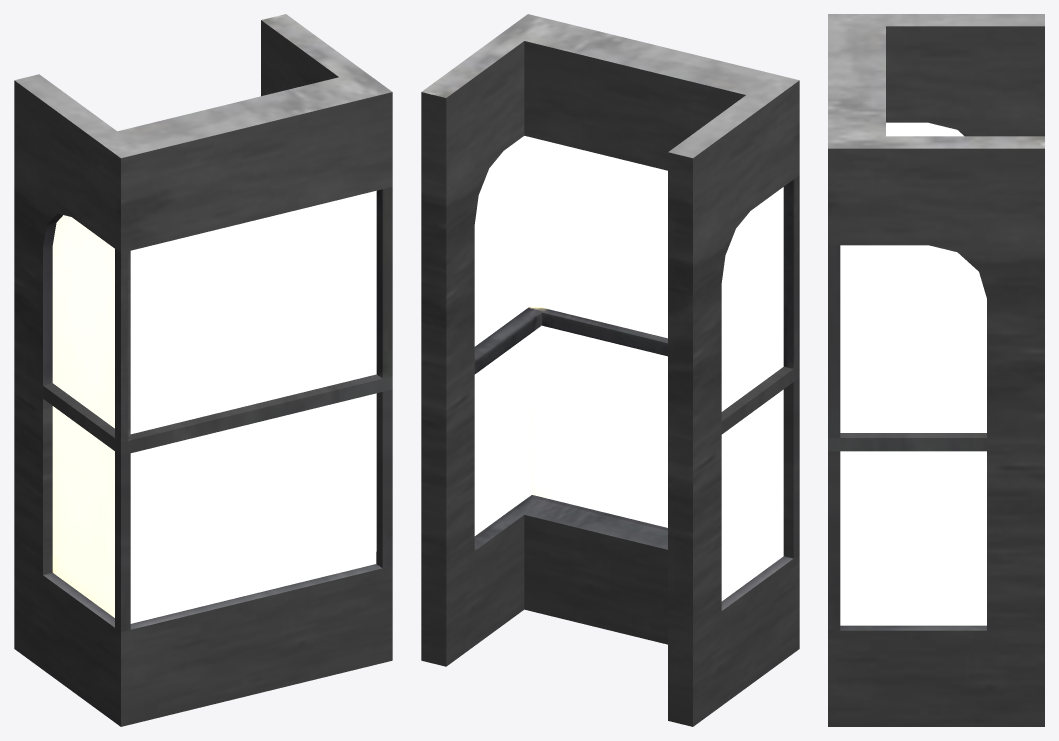
The model's file is WindowBayModuleSteampunk.glb.
3 views of the same model, side by side, from view 1: azimuth 30°, elevation 25°; view 2: azimuth 150°, elevation 25°; view 3: azimuth 270°, elevation 25° (orthographic).
Parts seen in each view (by area): view 1: Wall Window extrusion Module; view 2: Wall Window extrusion Module; view 3: Wall Window extrusion Module.
Boxes of the visible parts, x1=… form: Wall Window extrusion Module: x1=14, y1=14, x2=392, y2=726; Wall Window extrusion Module: x1=421, y1=14, x2=799, y2=726; Wall Window extrusion Module: x1=828, y1=14, x2=1044, y2=726.
Size of what is drawn, in the model's own units: 2.25 by 4.5 by 1.53.
Materials: 1 (1 with a texture image).
